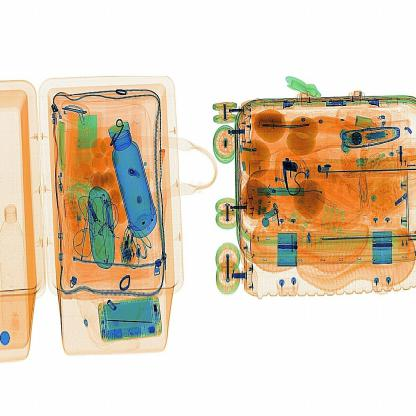pliers: (104, 309, 163, 335)
